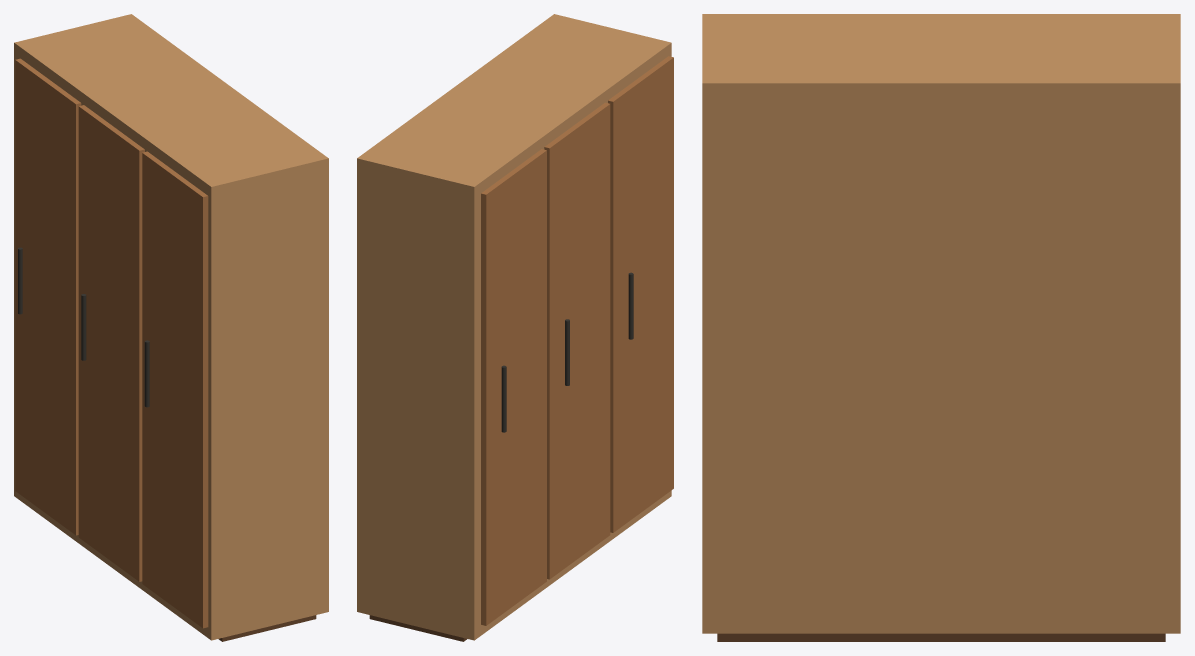
File: bedroom-wardrobe.gltf
3 renders of one model, left to right at view 1: azimuth 30°, elevation 25°; view 2: azimuth 150°, elevation 25°; view 3: azimuth 270°, elevation 25°, orthographic. The views are drawn at different scales.
Parts seen in each view (by area): view 1: Bedroom wardrobe oak carcass, Wardrobe full height door 0, Wardrobe full height door 1, Wardrobe full height door 2, Wardrobe recessed plinth; view 2: Bedroom wardrobe oak carcass, Wardrobe full height door 2, Wardrobe full height door 0, Wardrobe full height door 1, Wardrobe recessed plinth; view 3: Bedroom wardrobe oak carcass, Wardrobe recessed plinth.
Part boxes in pixels (x1=…): Bedroom wardrobe oak carcass: x1=14, y1=14, x2=328, y2=640; Wardrobe full height door 0: x1=142, y1=151, x2=208, y2=628; Wardrobe full height door 1: x1=78, y1=105, x2=144, y2=581; Wardrobe full height door 2: x1=15, y1=58, x2=81, y2=535; Wardrobe recessed plinth: x1=218, y1=615, x2=316, y2=641; Bedroom wardrobe oak carcass: x1=357, y1=14, x2=671, y2=640; Wardrobe full height door 2: x1=481, y1=149, x2=546, y2=625; Wardrobe full height door 0: x1=608, y1=56, x2=673, y2=532; Wardrobe full height door 1: x1=544, y1=102, x2=610, y2=579; Wardrobe recessed plinth: x1=369, y1=615, x2=466, y2=641; Bedroom wardrobe oak carcass: x1=702, y1=14, x2=1180, y2=633; Wardrobe recessed plinth: x1=717, y1=633, x2=1165, y2=641.
Size of the model in its own units: 0.615 by 2.08 by 1.6.
